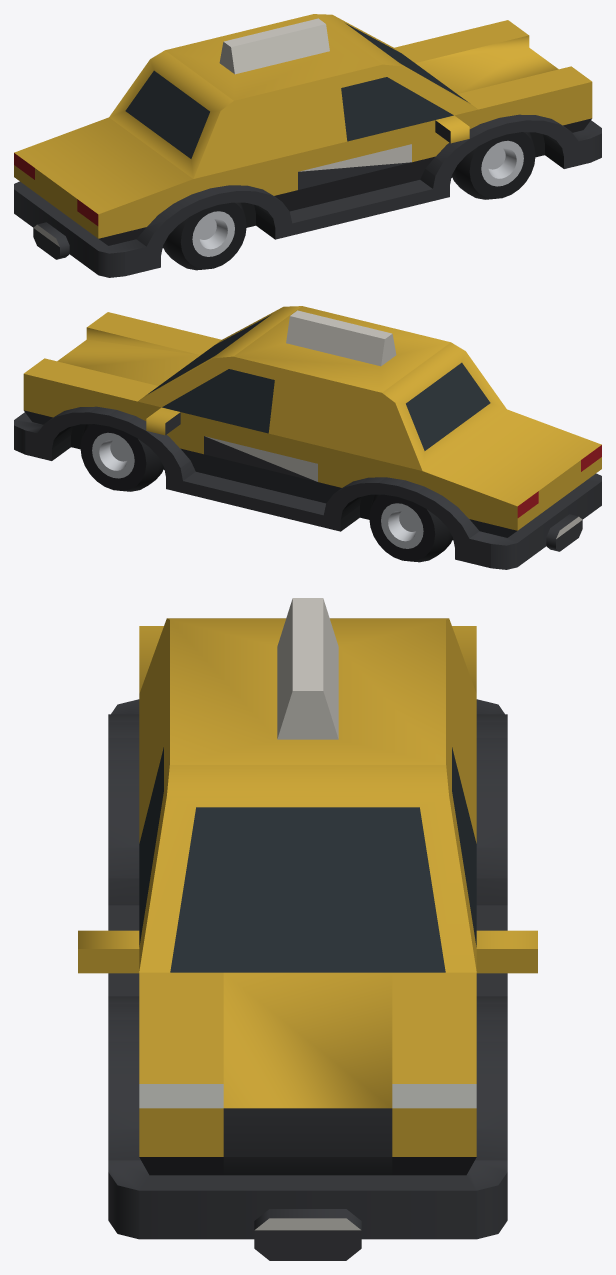
File: taxi.glb
The picture shows the model from 3 angles, top to bottom: view 1: azimuth 30°, elevation 25°; view 2: azimuth 150°, elevation 25°; view 3: azimuth 270°, elevation 25°; orthographic projection. The views are drawn at different scales.
Parts seen in each view (by area): view 1: taxi; view 2: taxi; view 3: taxi.
Boxes of the visible parts, x1,y1,x2,y2 form: taxi: (14,14,601,277); taxi: (14,306,601,569); taxi: (78,598,537,1260).
Size of the model in its own units: 4.85 by 1.62 by 1.85.
